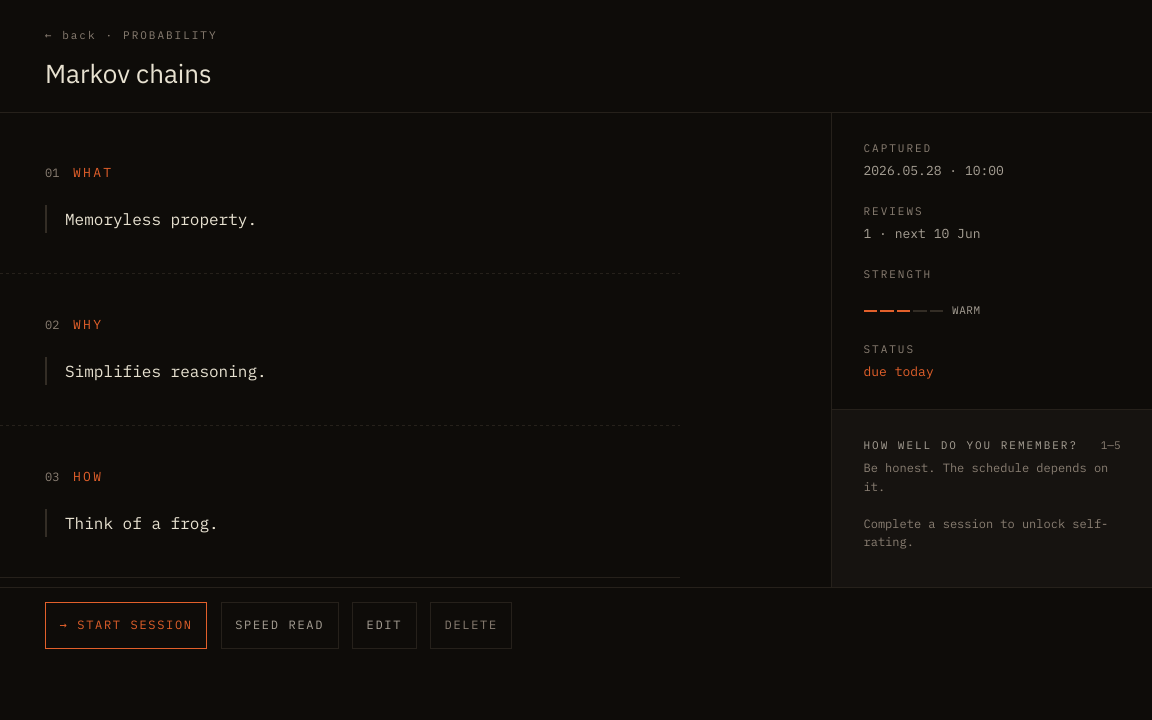
Test case: NoteDetail — delete › cancels delete when cancel is clicked
Expected: the heading "Markov chains" is shown, [45,56,212,90]
Click the button "delete". click: click(471, 625)
box: [430,602,512,648]
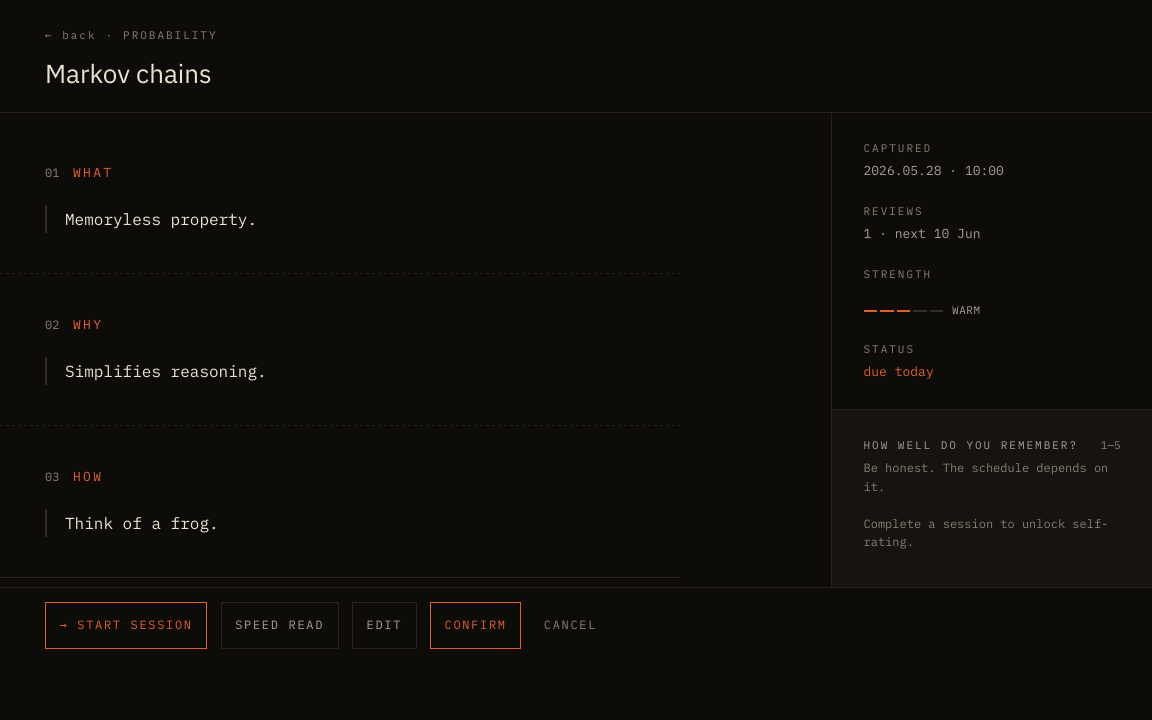
Click the button "cancel". click: click(570, 625)
box: [535,602,606,648]
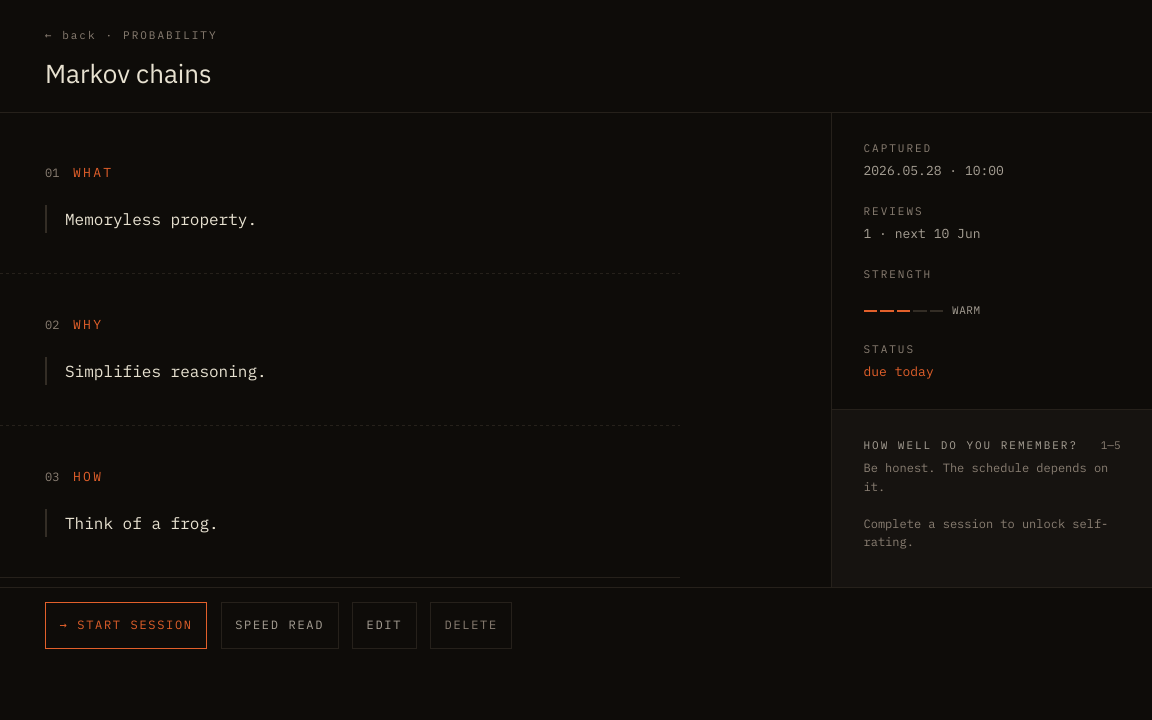
Expected: the button "delete" is shown, [430,602,512,648]
